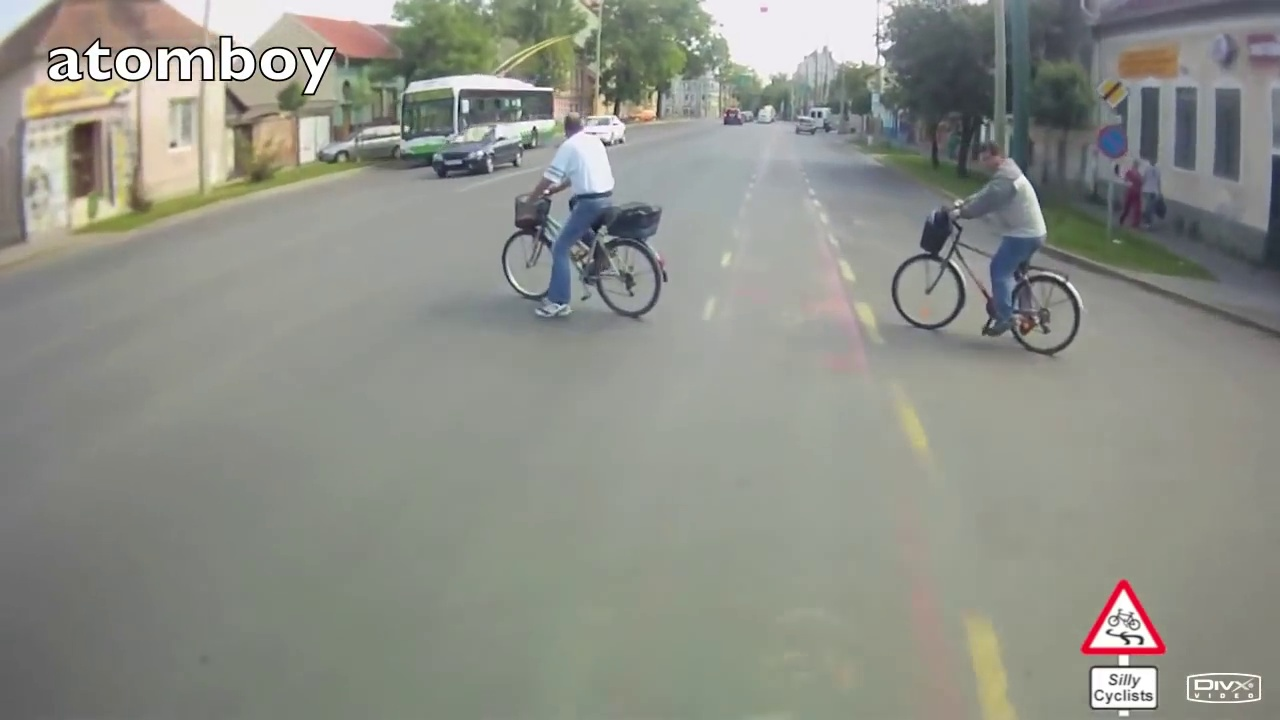cyclist_side: (895, 133, 1087, 358), (504, 110, 678, 330)
